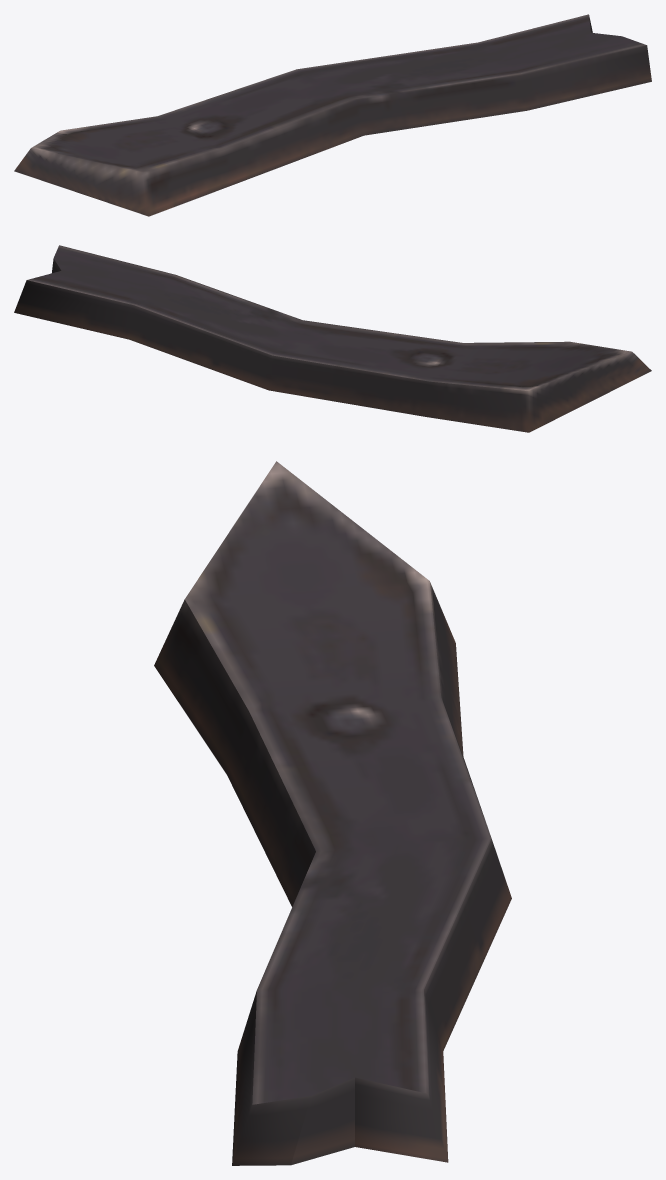
The model's file is cs_yanjiangchengbao_tieqiao_004.FBX.
3 views of the same model, one above another, from view 1: azimuth 30°, elevation 25°; view 2: azimuth 150°, elevation 25°; view 3: azimuth 270°, elevation 25° (orthographic). The views are drawn at different scales.
Visible parts, largest first — view 1: cs_yanjiangchengbao_tieqiao_004; view 2: cs_yanjiangchengbao_tieqiao_004; view 3: cs_yanjiangchengbao_tieqiao_004.
Boxes of the visible parts, <box> form: cs_yanjiangchengbao_tieqiao_004: <box>14,14,651,216</box>; cs_yanjiangchengbao_tieqiao_004: <box>14,245,651,432</box>; cs_yanjiangchengbao_tieqiao_004: <box>154,461,511,1165</box>.
Size of the model in its own units: 64.23 by 16.68 by 7.2.
